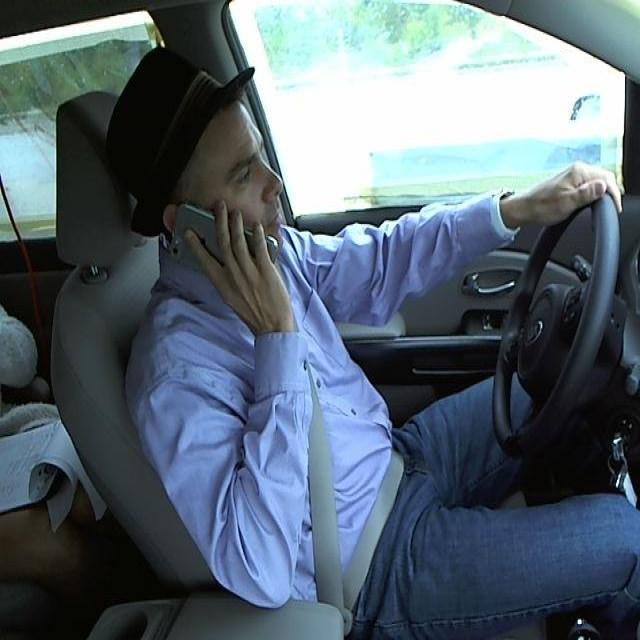using_phone: (107, 41, 313, 332)
